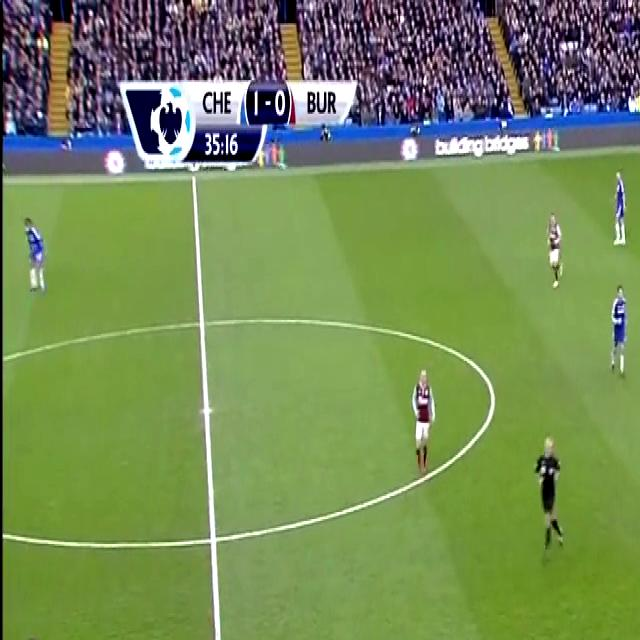referee: (526, 423, 572, 558)
soccer-player: (406, 357, 436, 486), (604, 277, 634, 387), (20, 207, 52, 300), (542, 205, 568, 299), (609, 162, 631, 253), (1, 624, 61, 640), (154, 631, 213, 640)
